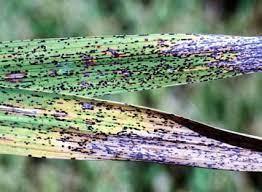Leaf Smut: (0, 82, 262, 172), (0, 36, 262, 98)
